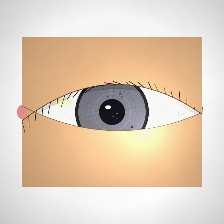pinguecula_lesion: (38, 83, 86, 122)
